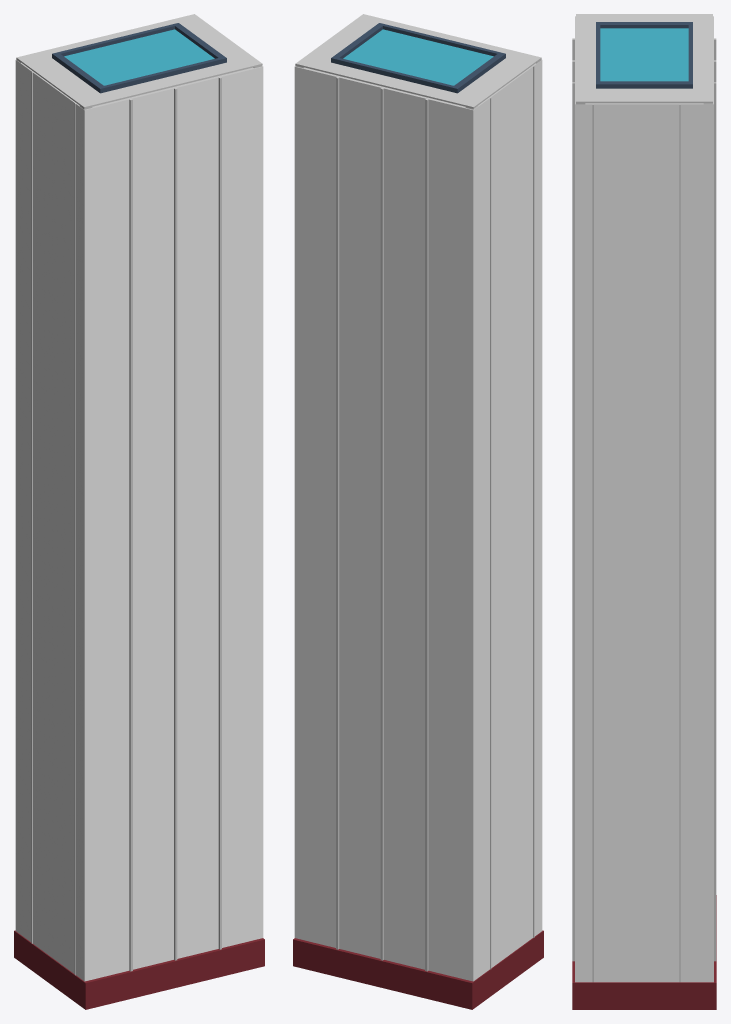
Rendered from sky_45.glb.
The picture shows the model from 3 angles, left to right: view 1: azimuth 30°, elevation 25°; view 2: azimuth 150°, elevation 25°; view 3: azimuth 270°, elevation 25°; orthographic projection.
Visible parts, largest first — view 1: body, roof, base; view 2: body, roof, base; view 3: body, roof, base.
Boxes of the visible parts, x1,y1,x2,y2 form: body: [15, 60, 263, 981]; roof: [16, 14, 262, 109]; base: [14, 930, 264, 1009]; body: [294, 60, 542, 981]; roof: [295, 14, 541, 109]; base: [293, 930, 543, 1009]; body: [572, 16, 716, 982]; roof: [576, 14, 712, 104]; base: [572, 895, 716, 1009].
Bounding box in the file's own units: 5.97 × 28.71 × 4.11.
